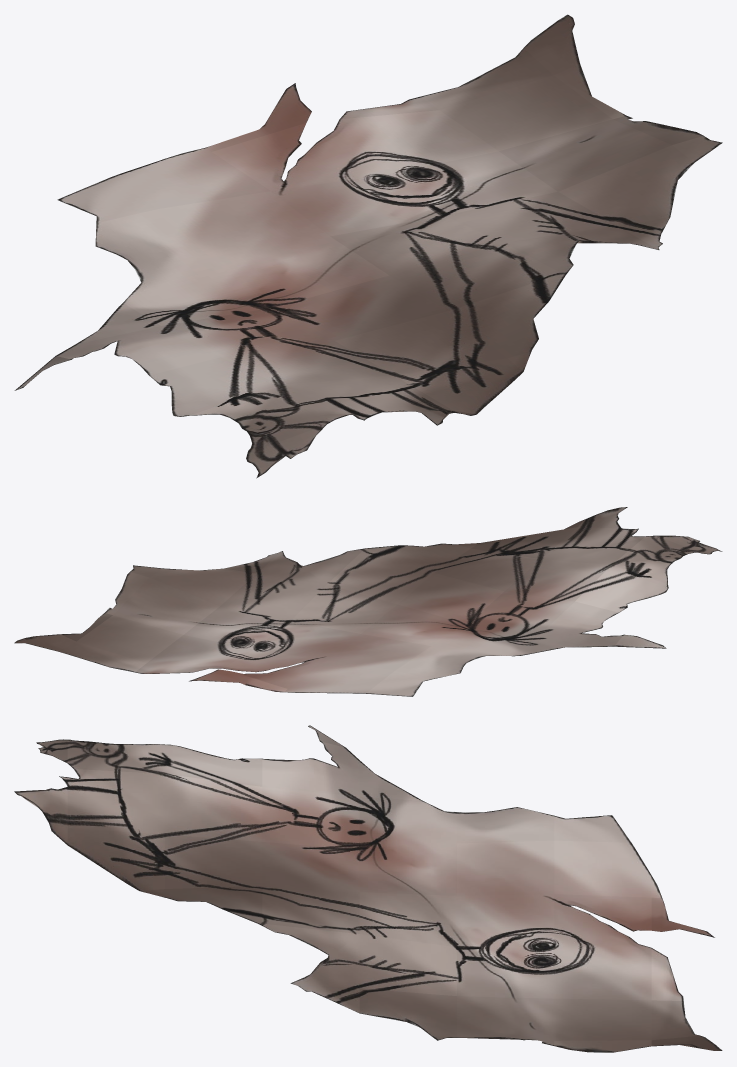
The model's file is pic3.fbx.
The picture shows the model from 3 angles, top to bottom: view 1: azimuth 30°, elevation 25°; view 2: azimuth 150°, elevation 25°; view 3: azimuth 270°, elevation 25°; orthographic projection. The views are drawn at different scales.
Visible parts, largest first — view 1: Plane; view 2: Plane; view 3: Plane.
Part boxes in pixels (x1,y1,x2,y2): Plane: (14, 14, 722, 478); Plane: (14, 507, 722, 696); Plane: (14, 725, 722, 1052).
Bounding box in the file's own units: 17.67 × 1.4 × 16.39.
